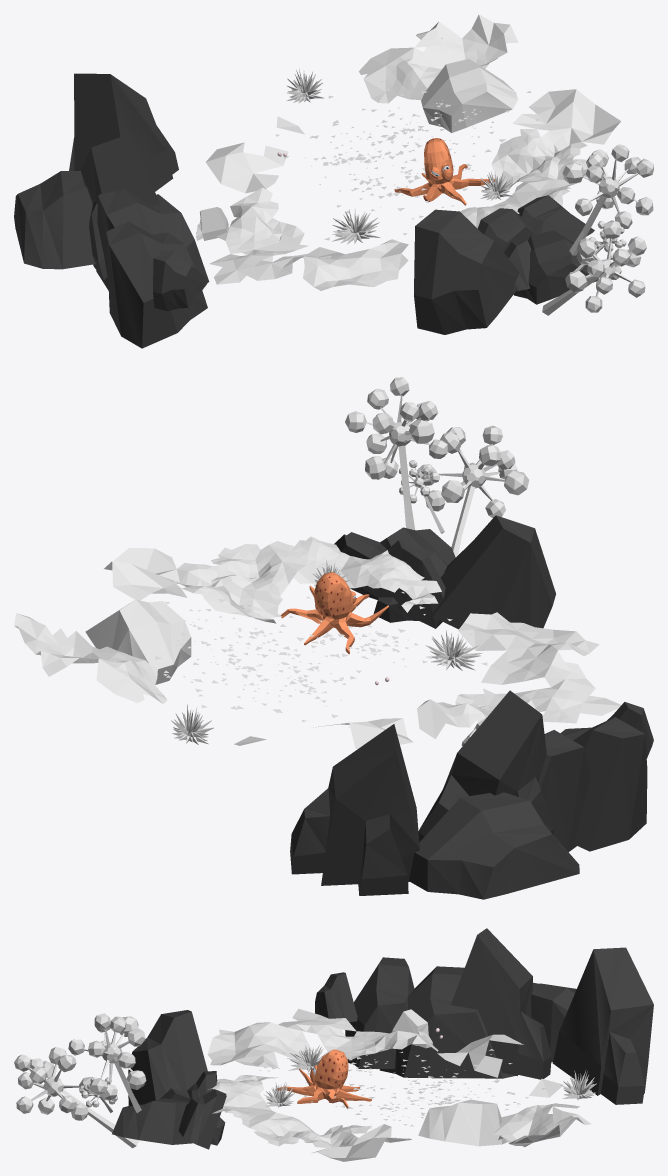
The model's file is unity_03植物9.fbx.
3 views of the same model, one above another, from view 1: azimuth 30°, elevation 25°; view 2: azimuth 150°, elevation 25°; view 3: azimuth 270°, elevation 25° (orthographic). The views are drawn at different scales.
Parts seen in each view (by area): view 1: Landscape.005, Cube.025_rocks.001_0.017, Cube.025_rocks.001_0.016, Cube.029_rocks.001_0.001, Cube.025_rocks.001_0.015, Cube.025_rocks.001_0.019, Cube.029_rocks.001_0.002, 立方体.225, Cube.025_rocks.001_0.014, 立方体.215, Cube.025_rocks.001_0.010, Cube.025_rocks.001_0.018 (+10 smaller); view 2: Landscape.005, Cube.029_rocks.001_0.001, Cube.025_rocks.001_0.015, Cube.025_rocks.001_0.017, Cube.029_rocks.001_0.002, Cube.025_rocks.001_0.016, 立方体.225, Cube.025_rocks.001_0.019, 立方体.215, Cube.025_rocks.001_0.014, octopus_mesh_octopus_0.001, md5_4bd24aa8bf8be5faf0120e07e9a1128a.001 - copy Duplicator.0 (+8 smaller); view 3: Landscape.005, Cube.029_rocks.001_0.001, Cube.029_rocks.001_0.002, Cube.025_rocks.001_0.014, Cube.025_rocks.001_0.017, Cube.025_rocks.001_0.016, 立方体.215, 立方体.225, Cube.025_rocks.001_0.019, Cube.025_rocks.001_0.010, octopus_mesh_octopus_0.001, Cube.025_rocks.001_0.015 (+10 smaller).
Part boxes in pixels (x1=…): Landscape.005: x1=205, y1=14, x2=620, y2=290; Cube.025_rocks.001_0.017: x1=414, y1=209, x2=519, y2=334; Cube.025_rocks.001_0.016: x1=106, y1=221, x2=207, y2=348; Cube.029_rocks.001_0.001: x1=69, y1=73, x2=178, y2=191; Cube.025_rocks.001_0.015: x1=14, y1=171, x2=95, y2=269; Cube.025_rocks.001_0.019: x1=421, y1=59, x2=517, y2=132; Cube.029_rocks.001_0.002: x1=80, y1=134, x2=160, y2=279; 立方体.225: x1=562, y1=144, x2=653, y2=255; Cube.025_rocks.001_0.014: x1=96, y1=189, x2=209, y2=290; 立方体.215: x1=542, y1=220, x2=646, y2=315; Cube.025_rocks.001_0.010: x1=513, y1=230, x2=598, y2=304; Cube.025_rocks.001_0.018: x1=153, y1=250, x2=206, y2=311; Landscape.005: x1=14, y1=536, x2=621, y2=748; Cube.029_rocks.001_0.001: x1=290, y1=724, x2=419, y2=895; Cube.025_rocks.001_0.015: x1=409, y1=792, x2=579, y2=899; Cube.025_rocks.001_0.017: x1=432, y1=515, x2=555, y2=629; Cube.029_rocks.001_0.002: x1=418, y1=690, x2=554, y2=842; Cube.025_rocks.001_0.016: x1=560, y1=717, x2=647, y2=851; 立方体.225: x1=345, y1=377, x2=447, y2=529; Cube.025_rocks.001_0.019: x1=85, y1=599, x2=191, y2=684; 立方体.215: x1=417, y1=425, x2=529, y2=557; Cube.025_rocks.001_0.014: x1=538, y1=730, x2=590, y2=852; octopus_mesh_octopus_0.001: x1=280, y1=572, x2=388, y2=654; md5_4bd24aa8bf8be5faf0120e07e9a1128a.001 - copy Duplicator.0: x1=81, y1=580, x2=487, y2=727; Landscape.005: x1=207, y1=1008, x2=591, y2=1161; Cube.029_rocks.001_0.001: x1=552, y1=947, x2=653, y2=1104; Cube.029_rocks.001_0.002: x1=451, y1=928, x2=551, y2=1079; Cube.025_rocks.001_0.014: x1=379, y1=966, x2=515, y2=1078; Cube.025_rocks.001_0.017: x1=128, y1=1010, x2=207, y2=1105; Cube.025_rocks.001_0.016: x1=345, y1=957, x2=414, y2=1068; 立方体.215: x1=14, y1=1047, x2=139, y2=1148; 立方体.225: x1=68, y1=1013, x2=146, y2=1112; Cube.025_rocks.001_0.019: x1=418, y1=1099, x2=507, y2=1146; Cube.025_rocks.001_0.010: x1=112, y1=1098, x2=192, y2=1144; octopus_mesh_octopus_0.001: x1=277, y1=1049, x2=371, y2=1109; Cube.025_rocks.001_0.015: x1=531, y1=982, x2=576, y2=1062.
Size of the model in its own units: 72.36 by 29.68 by 84.45.
